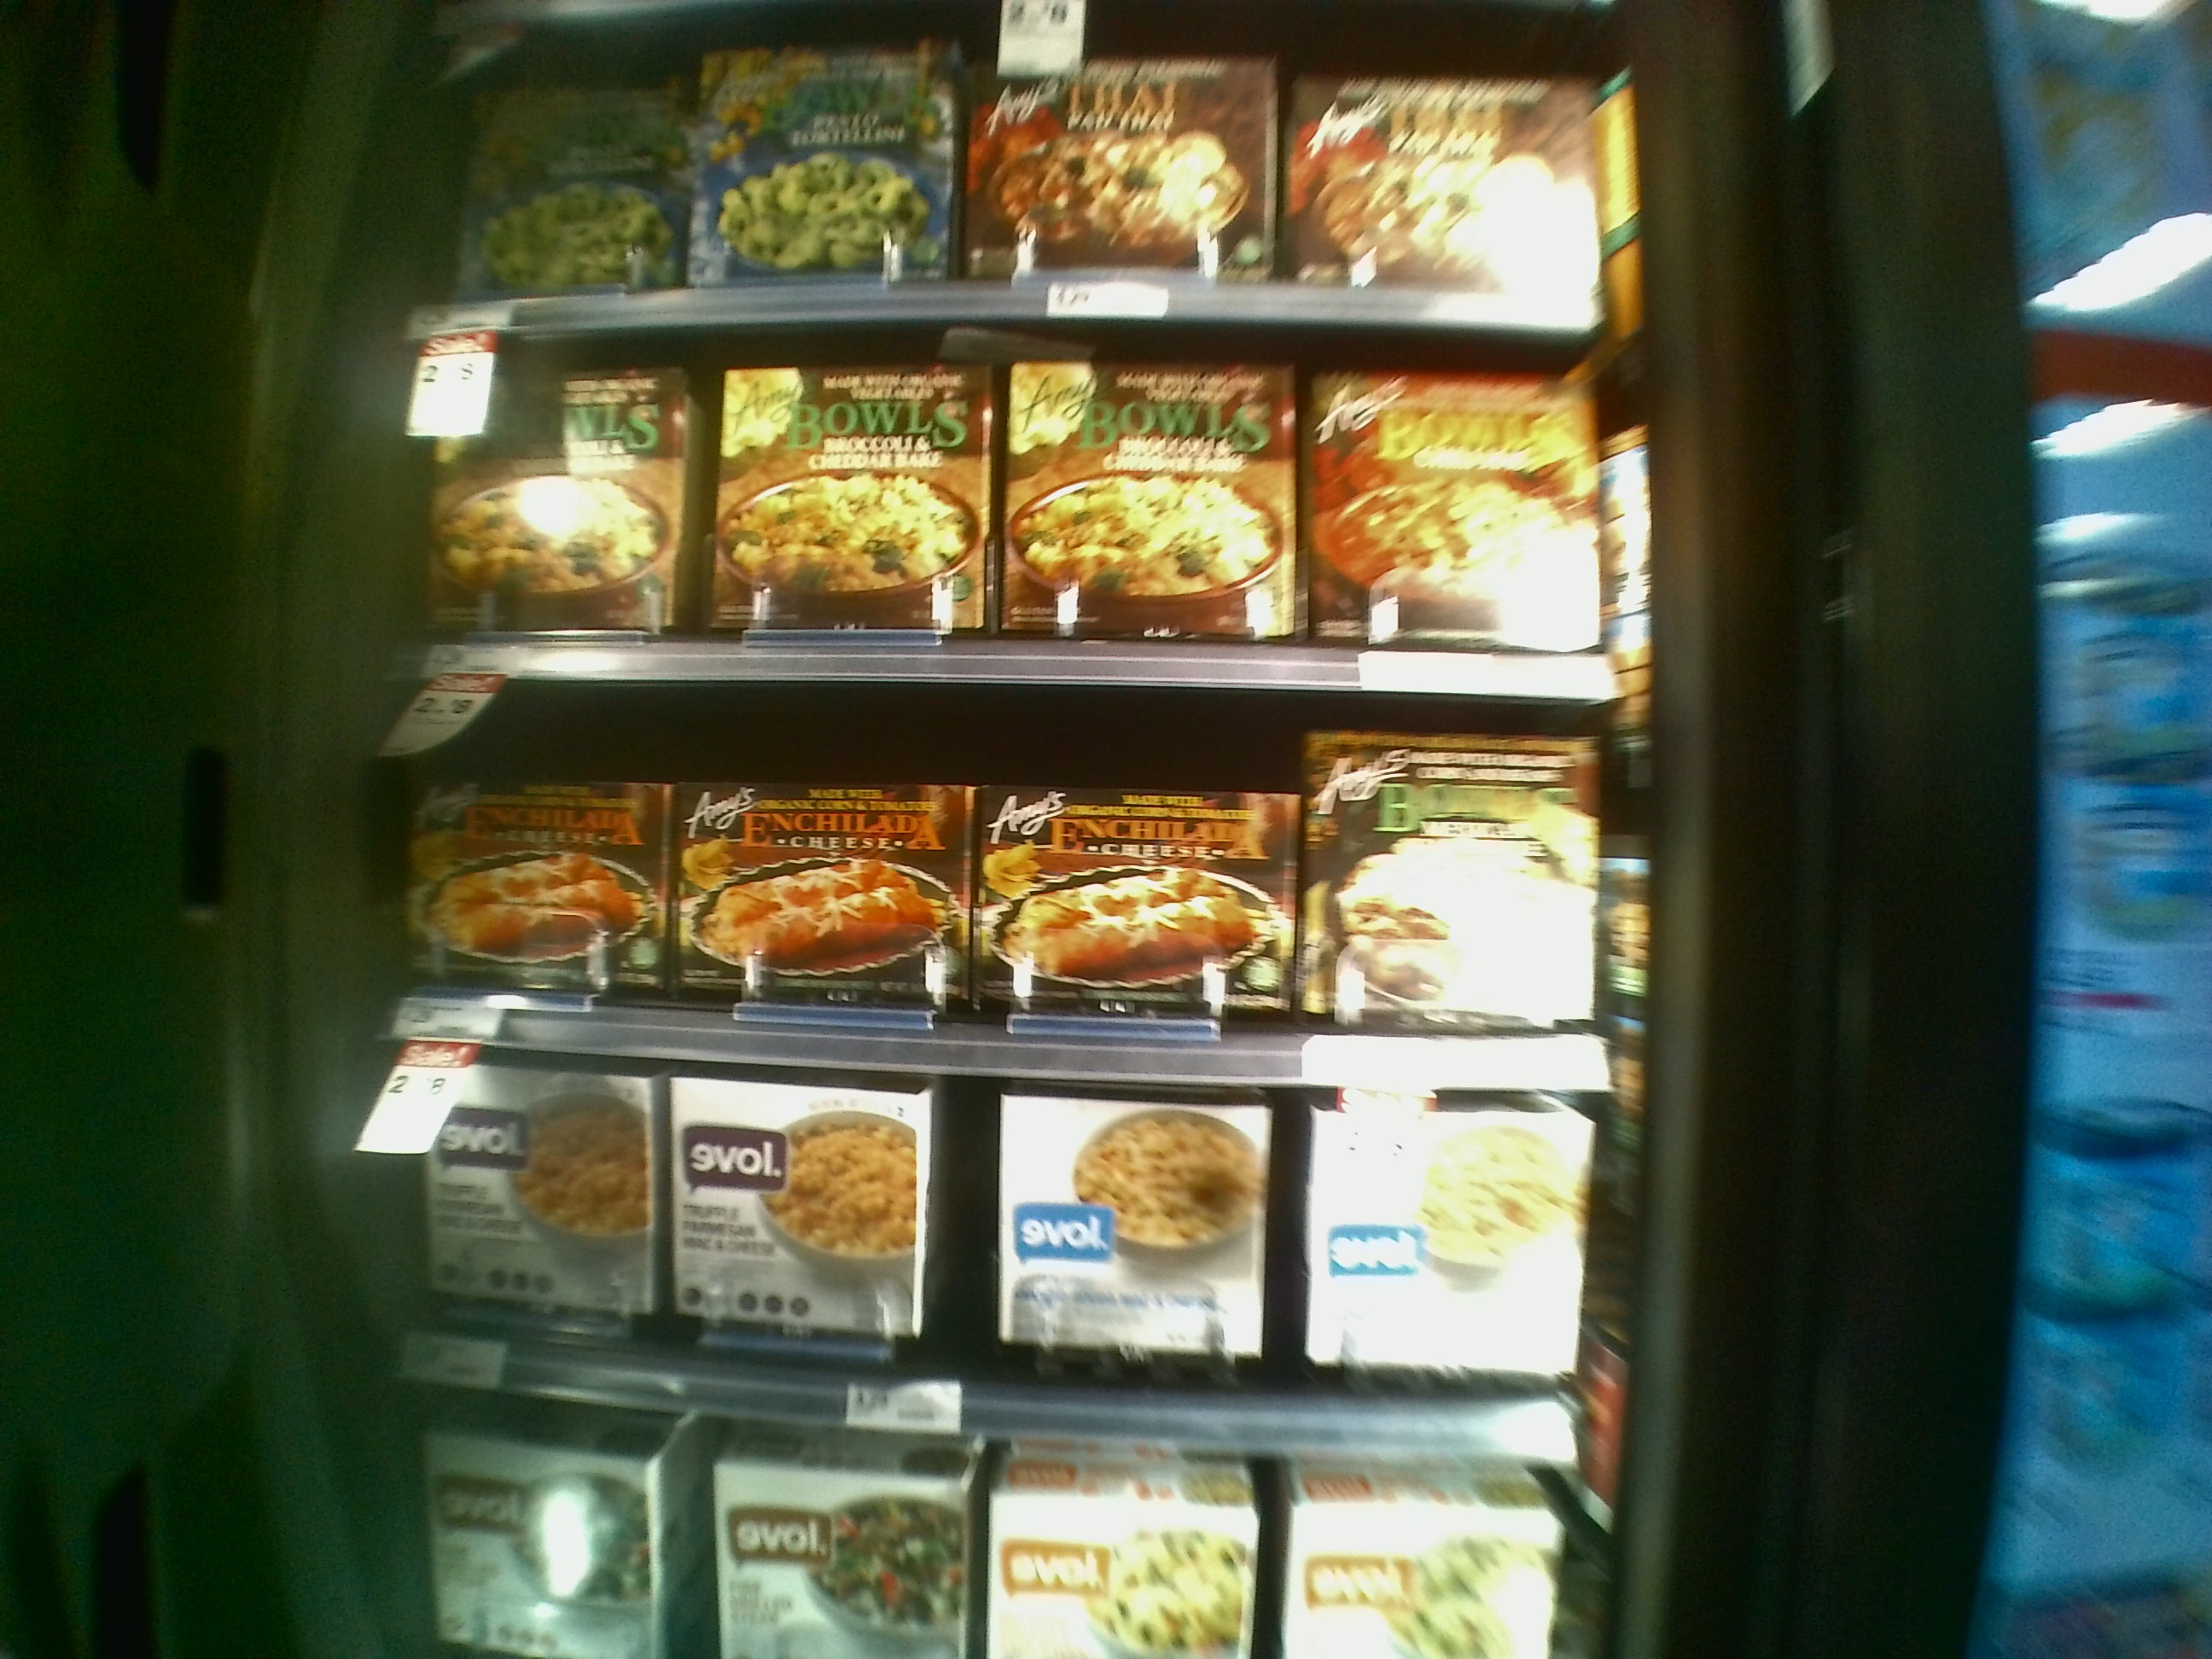shelf: (399, 683, 1630, 1082), (387, 1066, 1613, 1453), (409, 322, 1629, 694), (425, 31, 1625, 322)
